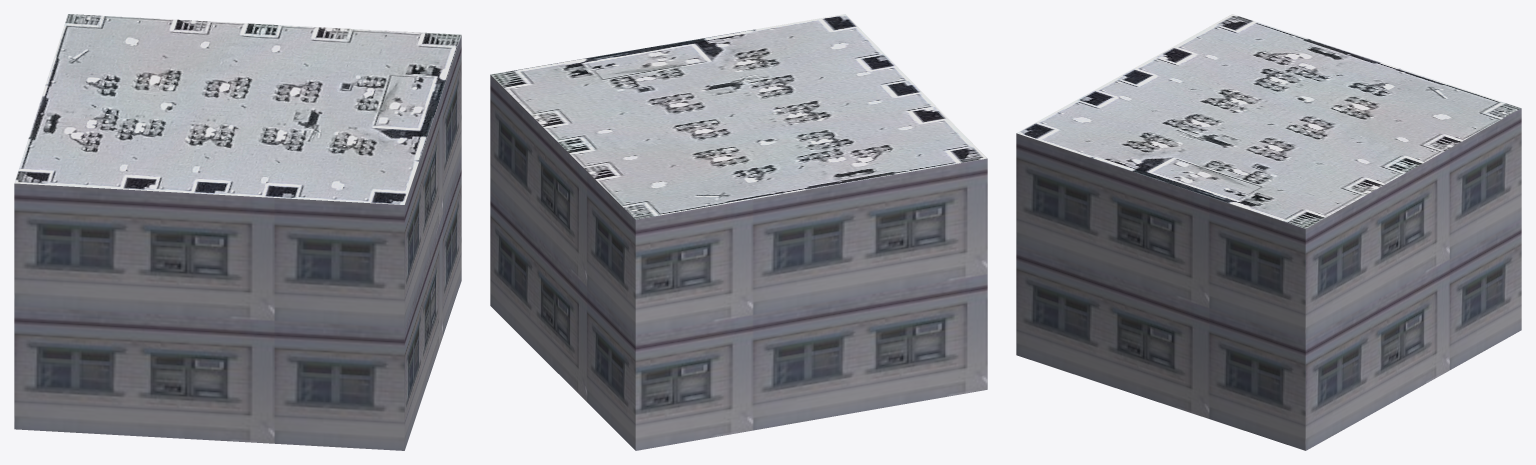
The model's file is ResTex__1065.fbx.
The picture shows the model from 3 angles, left to right: view 1: azimuth 30°, elevation 25°; view 2: azimuth 150°, elevation 25°; view 3: azimuth 270°, elevation 25°; orthographic projection. The views are drawn at different scales.
Visible parts, largest first — view 1: CityEngineMaterial_1_m, CityEngineMaterial_m; view 2: CityEngineMaterial_1_m, CityEngineMaterial_m; view 3: CityEngineMaterial_1_m, CityEngineMaterial_m.
Boxes of the visible parts, bbox=[...] form: CityEngineMaterial_1_m: bbox=[14, 35, 461, 450]; CityEngineMaterial_m: bbox=[14, 14, 461, 204]; CityEngineMaterial_1_m: bbox=[490, 75, 987, 450]; CityEngineMaterial_m: bbox=[490, 14, 987, 219]; CityEngineMaterial_1_m: bbox=[1016, 108, 1521, 450]; CityEngineMaterial_m: bbox=[1016, 14, 1521, 228].
Size of the model in its own units: 12.46 by 6 by 12.38.
2 materials, 2 textured.
